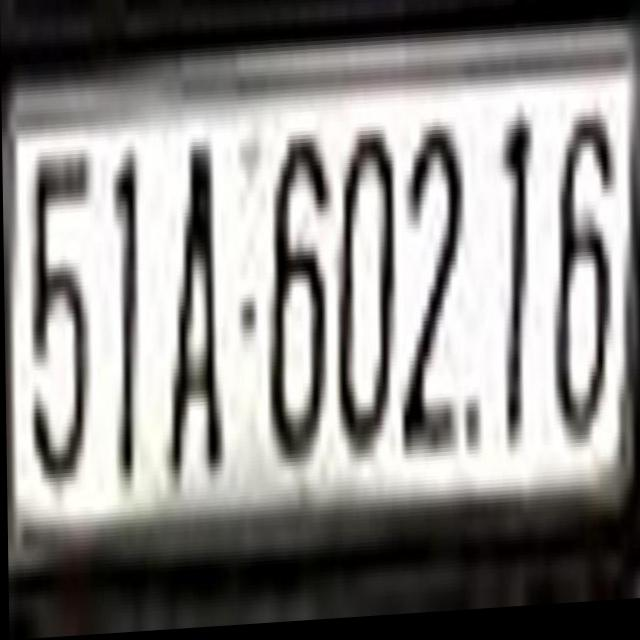0: (333, 127, 395, 472)
1: (493, 92, 532, 467), (107, 124, 142, 499)
2: (397, 131, 464, 472)
5: (28, 139, 94, 503)
6: (261, 122, 333, 483), (548, 96, 618, 464)
A: (158, 132, 225, 484)
